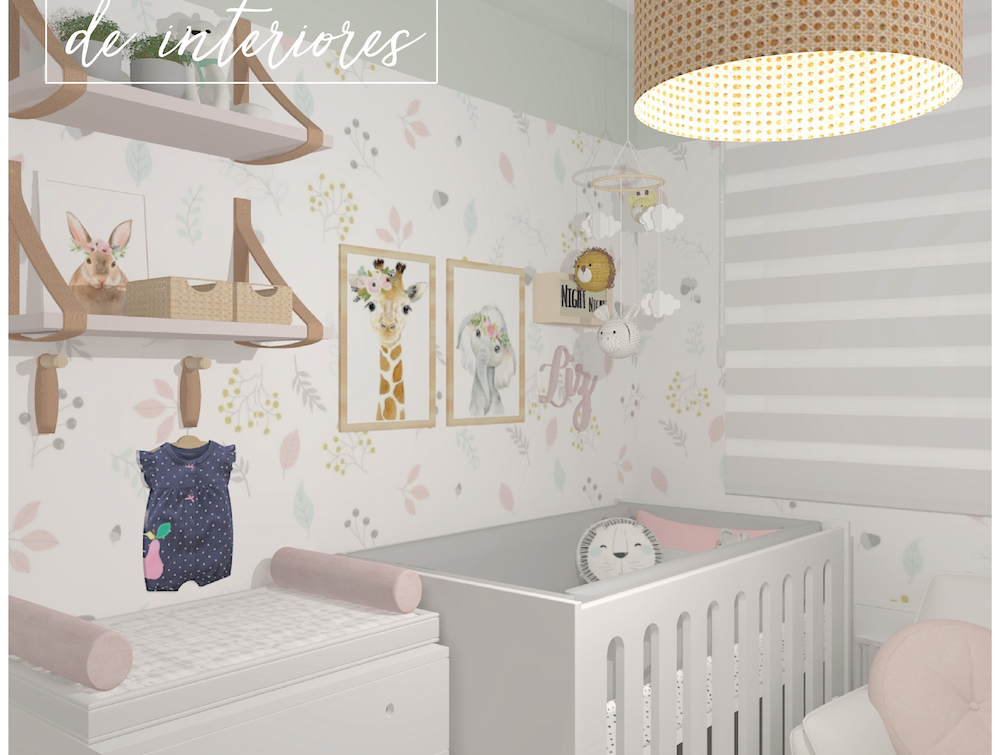crib: (352, 503, 849, 754)
